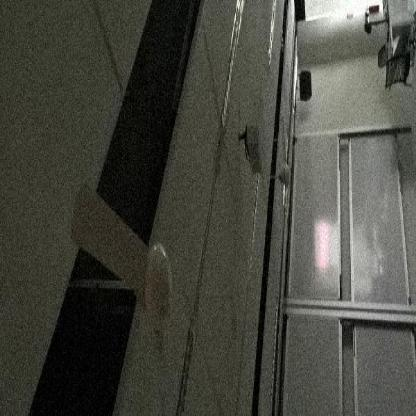light_off: (206, 0, 259, 131), (169, 311, 207, 415), (244, 176, 262, 284), (264, 2, 280, 71)
